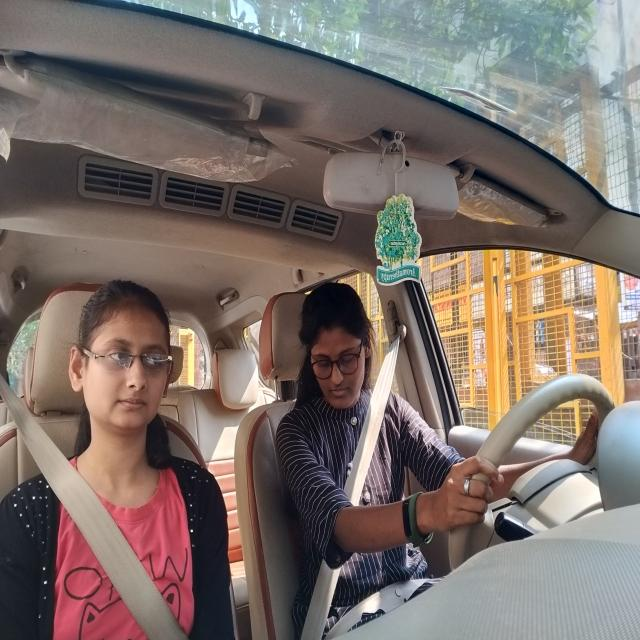drowsy: (302, 290, 375, 411)
person: (76, 290, 174, 432)
